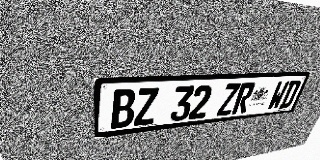2: (188, 85, 213, 120)
3: (170, 86, 195, 122)
B: (111, 89, 136, 129)
D: (278, 80, 302, 109)
R: (231, 82, 256, 114)
W: (266, 81, 290, 110)
Z: (134, 87, 159, 126), (216, 83, 241, 116)
